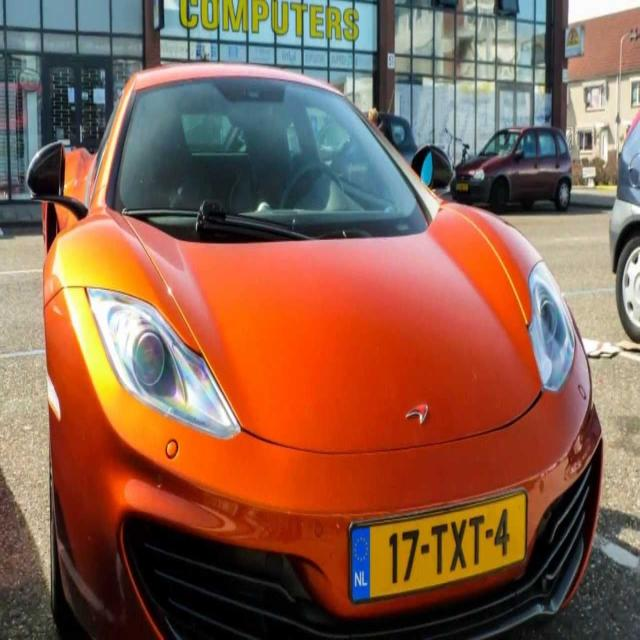number_plate: (348, 484, 530, 601)
